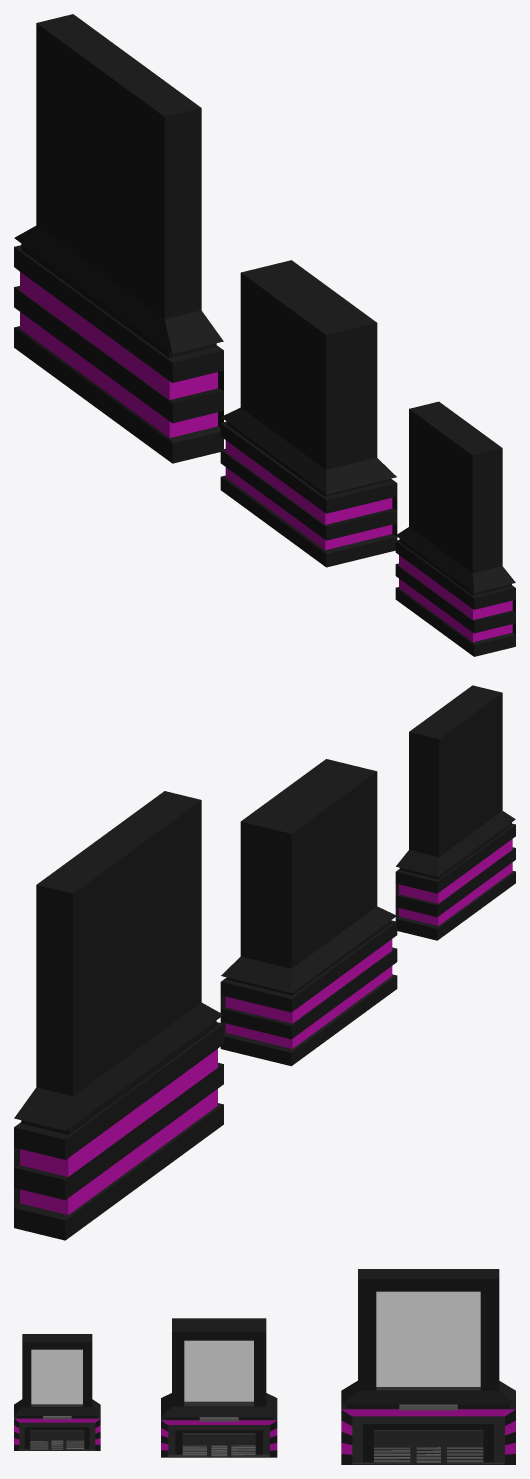
Rendered from Advert screens.fbx.
3 views of the same model, one above another, from view 1: azimuth 30°, elevation 25°; view 2: azimuth 150°, elevation 25°; view 3: azimuth 270°, elevation 25° (orthographic). The views are drawn at different scales.
Parts seen in each view (by area): view 1: Advert Board Medium.001 (×2), Advert Board Medium (×2), Advert Board Small (×2); view 2: Advert Board Medium.001 (×2), Advert Board Medium (×2), Advert Board Small (×2); view 3: Advert Board Medium.001 (×5), Advert Board Medium (×5), Advert Board Small (×5).
Part boxes in pixels (left/top/right/bottom): Advert Board Medium.001 (×2): left=14, top=14, right=223, bottom=463; Advert Board Medium (×2): left=220, top=260, right=397, bottom=567; Advert Board Small (×2): left=395, top=401, right=515, bottom=656; Advert Board Medium.001 (×2): left=14, top=791, right=223, bottom=1240; Advert Board Medium (×2): left=220, top=759, right=397, bottom=1066; Advert Board Small (×2): left=395, top=685, right=515, bottom=940; Advert Board Medium.001 (×5): left=341, top=1269, right=515, bottom=1464; Advert Board Medium (×5): left=161, top=1318, right=277, bottom=1457; Advert Board Small (×5): left=14, top=1334, right=100, bottom=1450.
Bounding box in the file's own units: 723 × 3053 × 7548.
